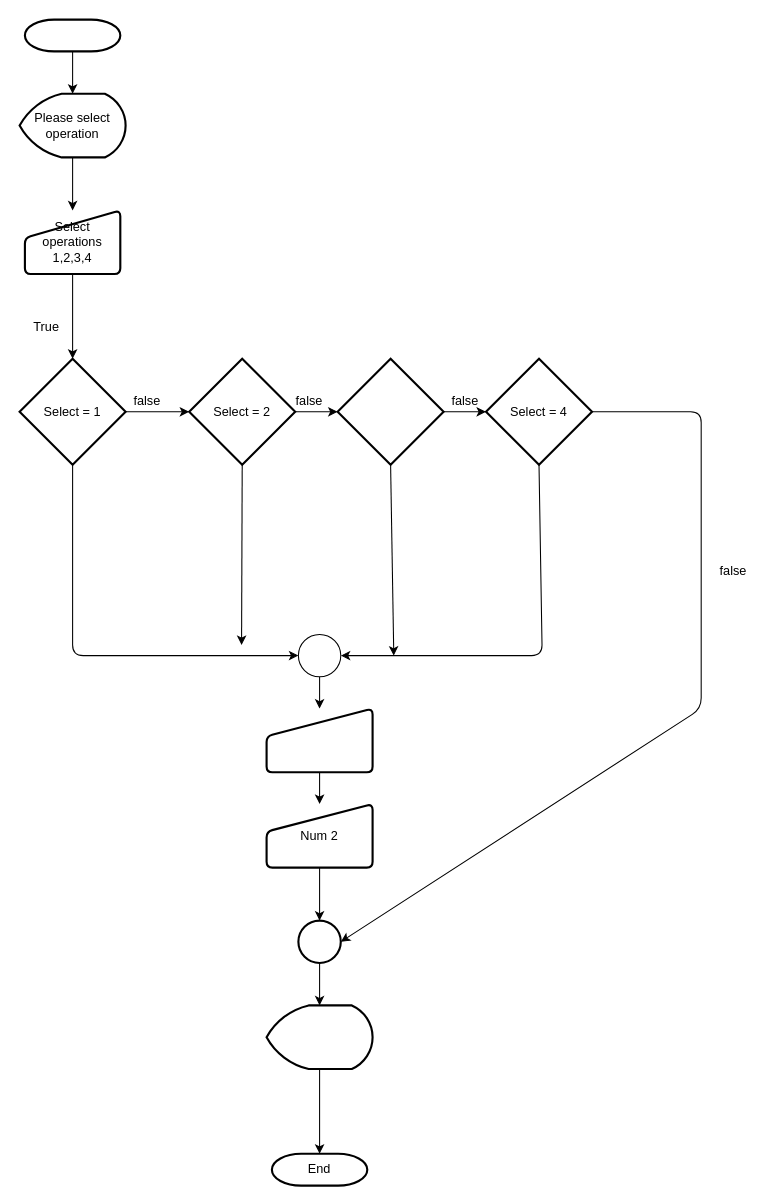
The diagram is 772 pixels wide and 1204 high, and some of its shapes have lost their labels. The shapes that lost their labels are listed below. From the top down, each one's box as (x1, y1, x2, y2) in pixels, then its label:
(23, 18, 121, 52): start
(336, 357, 444, 465): Select = 3
(265, 707, 373, 773): Num 1
(265, 1004, 373, 1070): result
